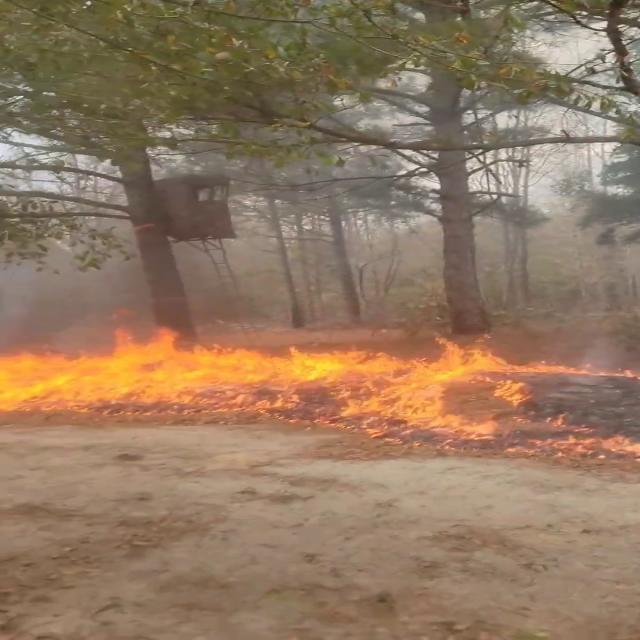Fire: (1, 322, 632, 434)
